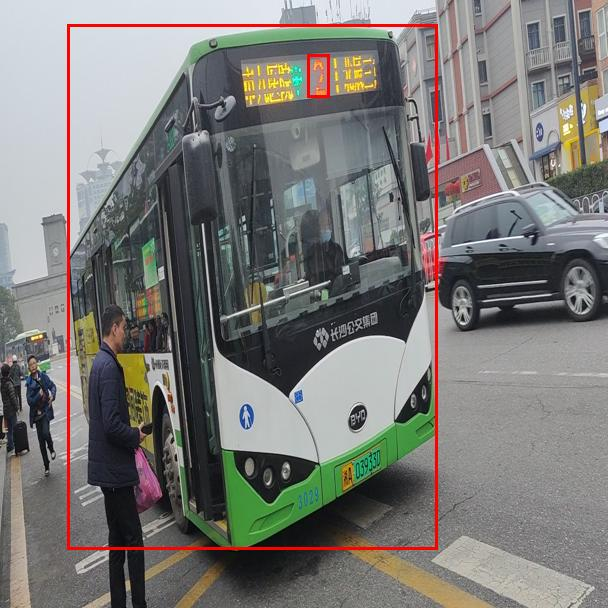bus: (67, 24, 437, 549)
screen: (307, 54, 329, 97)
